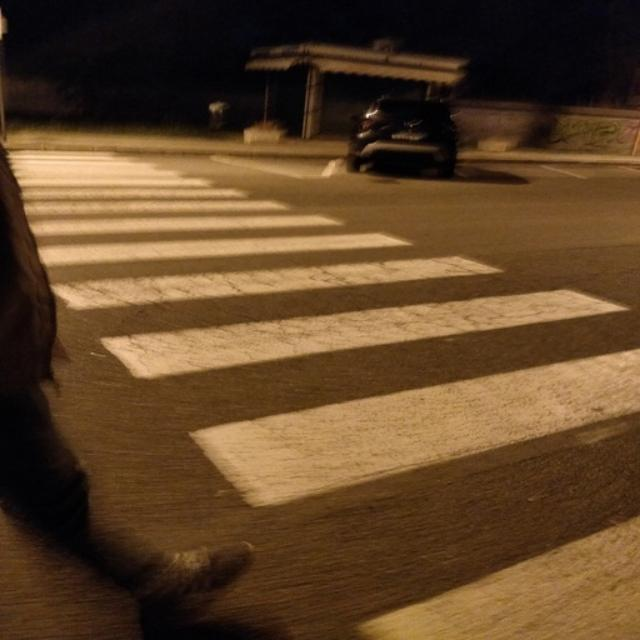sidewalk: (5, 151, 639, 638)
